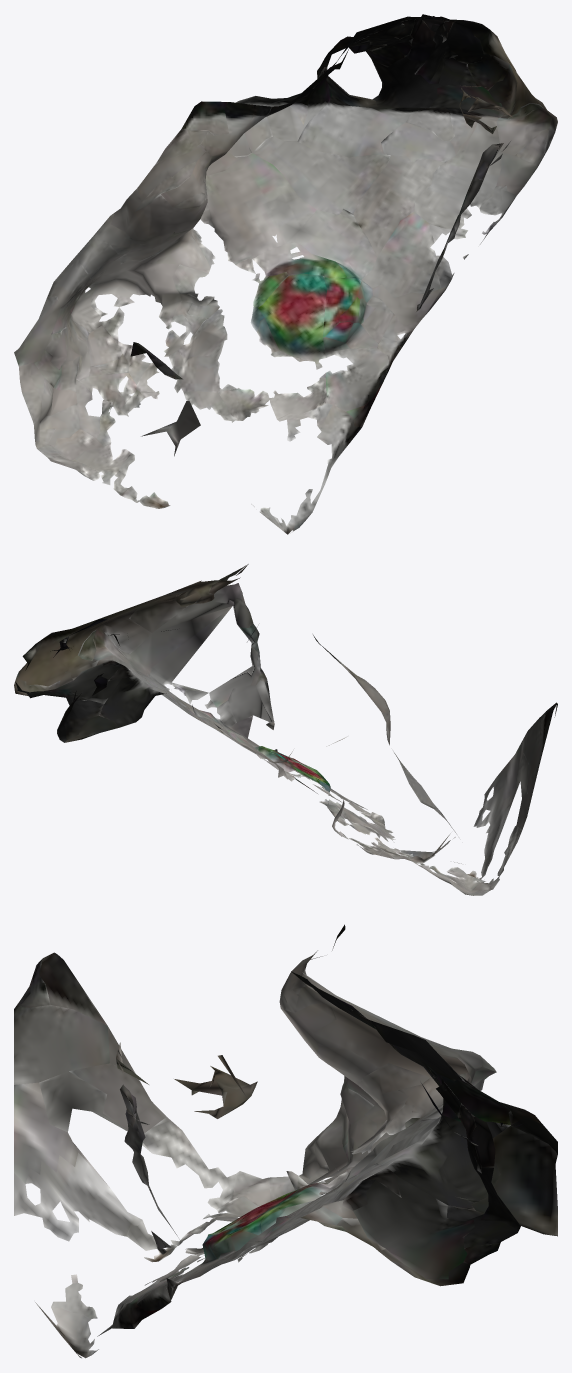
The model's file is hall.glb.
3 renders of one model, top to bottom at view 1: azimuth 30°, elevation 25°; view 2: azimuth 150°, elevation 25°; view 3: azimuth 270°, elevation 25°, orthographic. The views are drawn at different scales.
Bounding box in the file's own units: 0.8851 × 0.5465 × 0.6111.
1 material, 1 textured.
